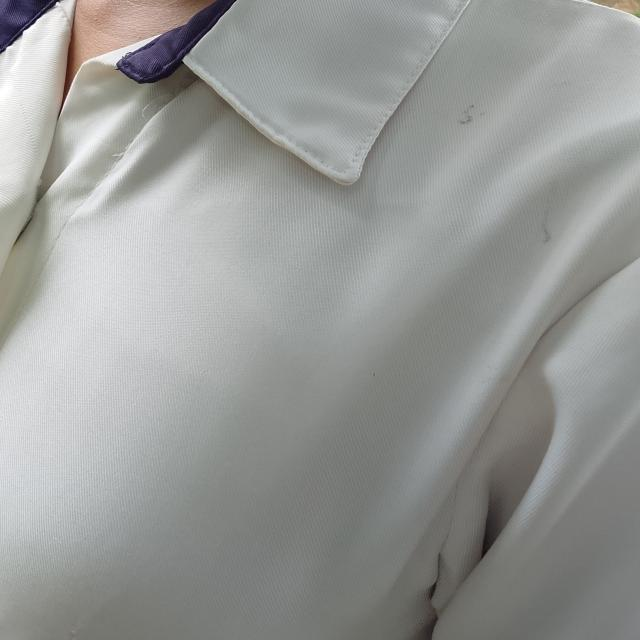education_female_uniform: (5, 7, 640, 622)
